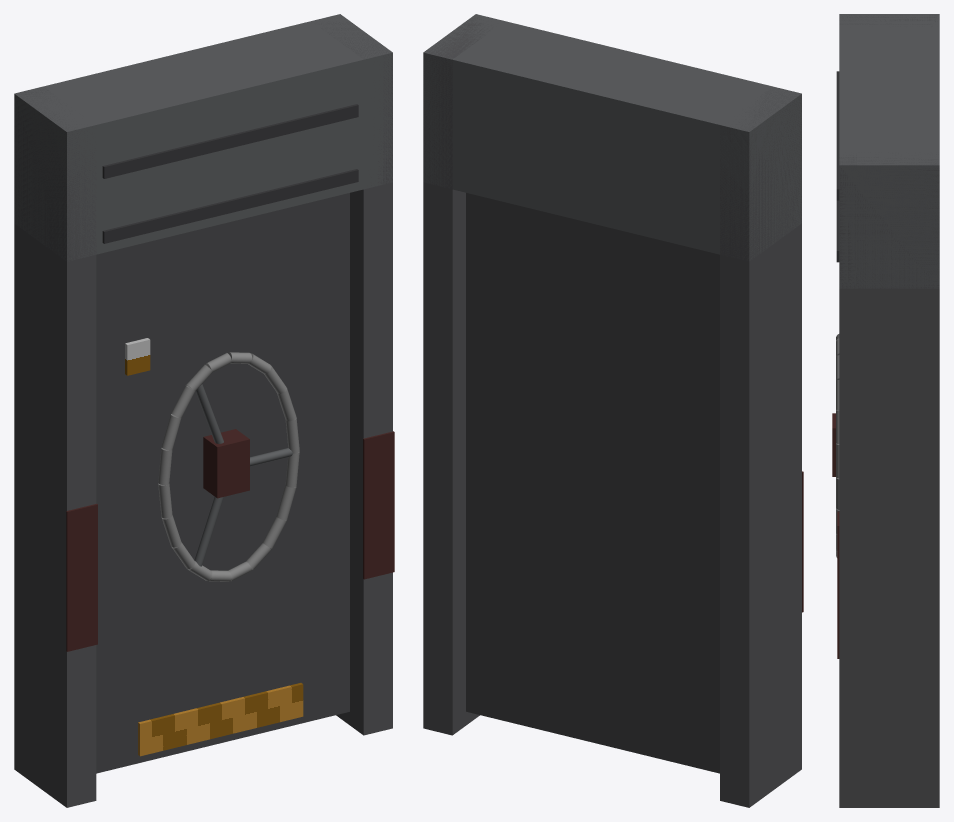
The model's file is CMU3DInheritedStructureCMAirlockPrisonCloud.glb.
3 renders of one model, left to right at view 1: azimuth 30°, elevation 25°; view 2: azimuth 150°, elevation 25°; view 3: azimuth 270°, elevation 25°, orthographic. The views are drawn at different scales.
Parts seen in each view (by area): view 1: heavy security slab, top lintel, prison jamb -0.455, prison jamb 0.455, threshold caution, red jamb band -0.455, red jamb band 0.455, lintel seam 1.63, lintel seam 1.82, wheel center locking block, small lock lamp, wheel spoke 4.1887902047863905; view 2: heavy security slab, top lintel, prison jamb -0.455, prison jamb 0.455; view 3: prison jamb 0.455, top lintel, lintel seam 1.82, red jamb band 0.455, prison jamb -0.455, wheel center locking block, lintel seam 1.63.
Boxes of the visible parts, <box> form: heavy security slab: <box>96,193,349,773</box>; top lintel: <box>14,14,392,261</box>; prison jamb -0.455: <box>14,86,96,807</box>; prison jamb 0.455: <box>319,15,392,735</box>; threshold caution: <box>138,683,303,756</box>; red jamb band -0.455: <box>66,503,97,651</box>; red jamb band 0.455: <box>363,431,394,579</box>; lintel seam 1.63: <box>102,169,358,243</box>; lintel seam 1.82: <box>102,104,358,178</box>; wheel center locking block: <box>203,429,249,498</box>; small lock lamp: <box>125,338,150,375</box>; wheel spoke 4.1887902047863905: <box>194,497,223,566</box>; heavy security slab: <box>466,193,719,773</box>; top lintel: <box>423,14,801,260</box>; prison jamb -0.455: <box>720,87,801,807</box>; prison jamb 0.455: <box>423,14,492,735</box>; prison jamb 0.455: <box>839,152,939,807</box>; top lintel: <box>839,14,939,288</box>; lintel seam 1.82: <box>836,71,839,200</box>; red jamb band 0.455: <box>837,511,839,658</box>; prison jamb -0.455: <box>839,15,939,26</box>; wheel center locking block: <box>832,413,835,476</box>; lintel seam 1.63: <box>836,200,839,262</box>.
Size of the model in its own units: 1 by 1.98 by 0.3.
8 materials, 2 textured.
